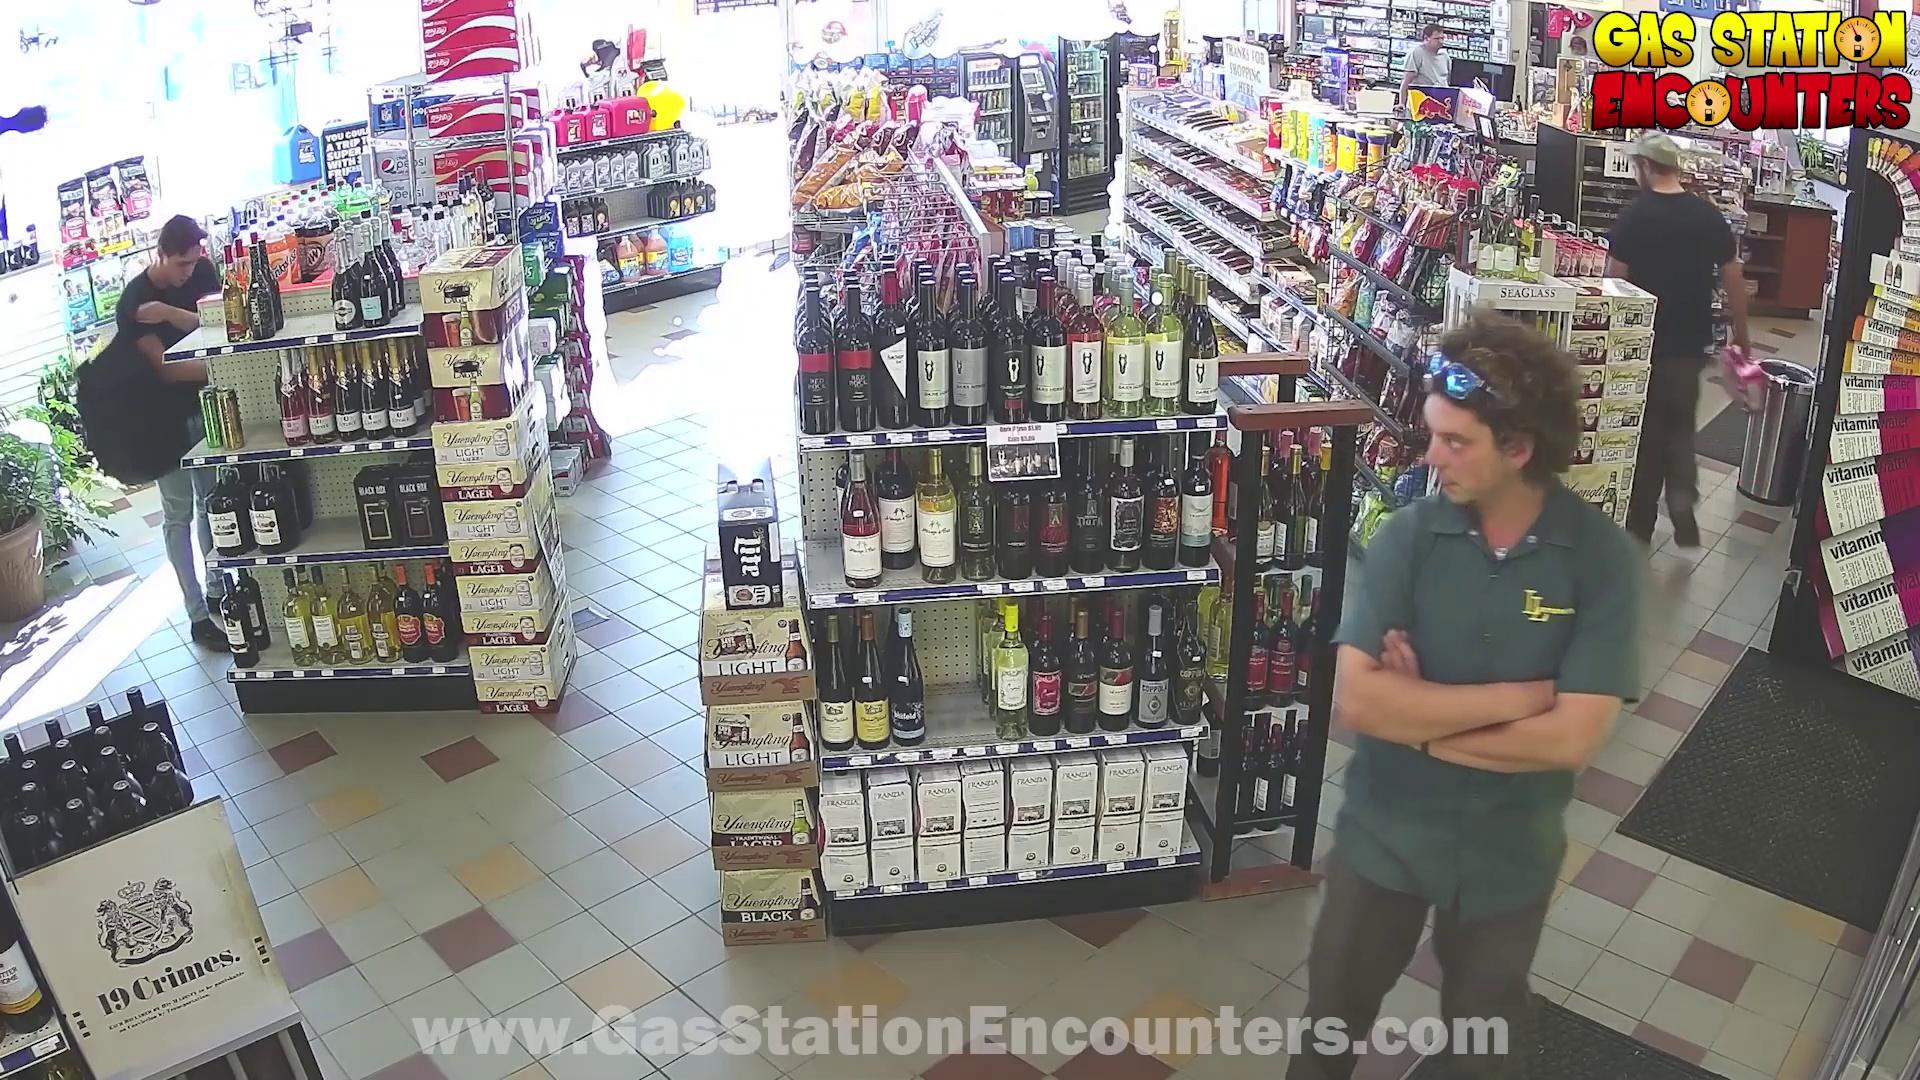Customer-Bagpack: (75, 348, 183, 489)
Product: (1717, 338, 1774, 406)
Product-Picked: (1606, 117, 1801, 658)
Regular: (1287, 298, 1636, 1080), (11, 162, 255, 695)
